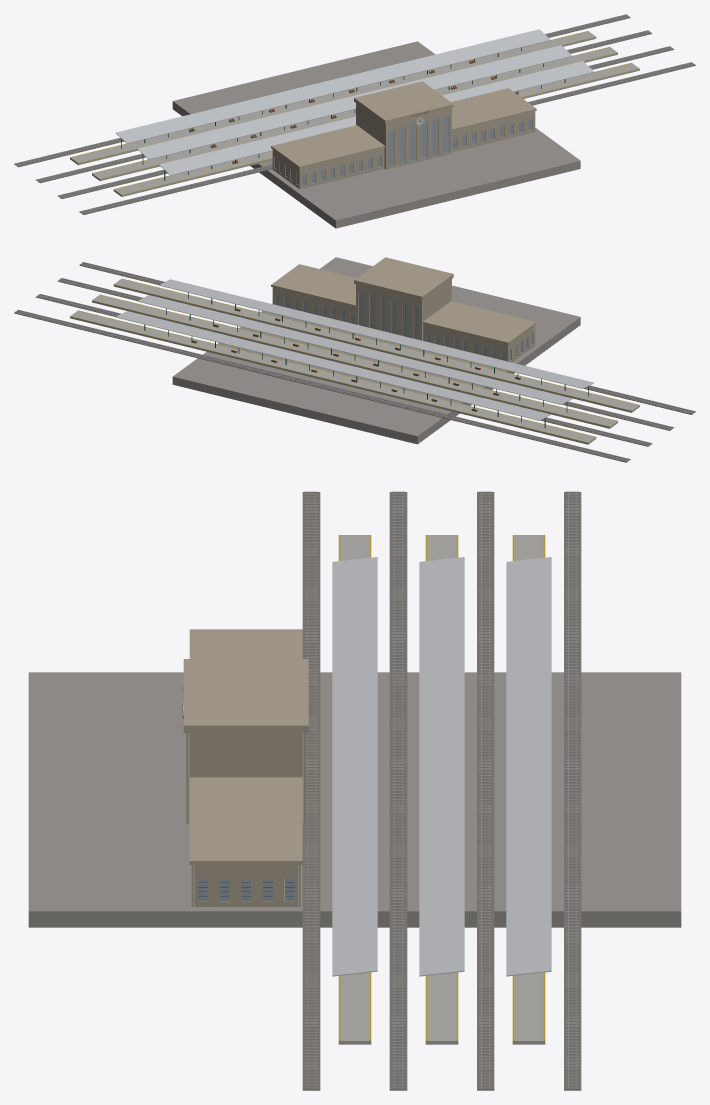
Rendered from simge_tren_gari.glb.
The picture shows the model from 3 angles, top to bottom: view 1: azimuth 30°, elevation 25°; view 2: azimuth 150°, elevation 25°; view 3: azimuth 270°, elevation 25°; orthographic projection. The views are drawn at different scales.
Visible parts, largest first — view 1: Simge_Tren_Gari.001; view 2: Simge_Tren_Gari.001; view 3: Simge_Tren_Gari.001.
Part boxes in pixels (x1,y1,x2,y2): Simge_Tren_Gari.001: (14,14,695,228); Simge_Tren_Gari.001: (14,257,695,462); Simge_Tren_Gari.001: (28,491,681,1090).
Size of the model in its own units: 260 by 23.5 by 120.
